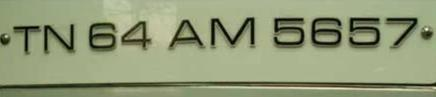4: (118, 17, 155, 58)
5: (269, 11, 308, 49), (346, 12, 382, 53)
6: (86, 17, 117, 56), (310, 13, 343, 49)
7: (385, 12, 419, 53)
A: (166, 12, 206, 58)
M: (210, 13, 259, 54)
N: (42, 18, 78, 59)
T: (7, 19, 41, 57)
